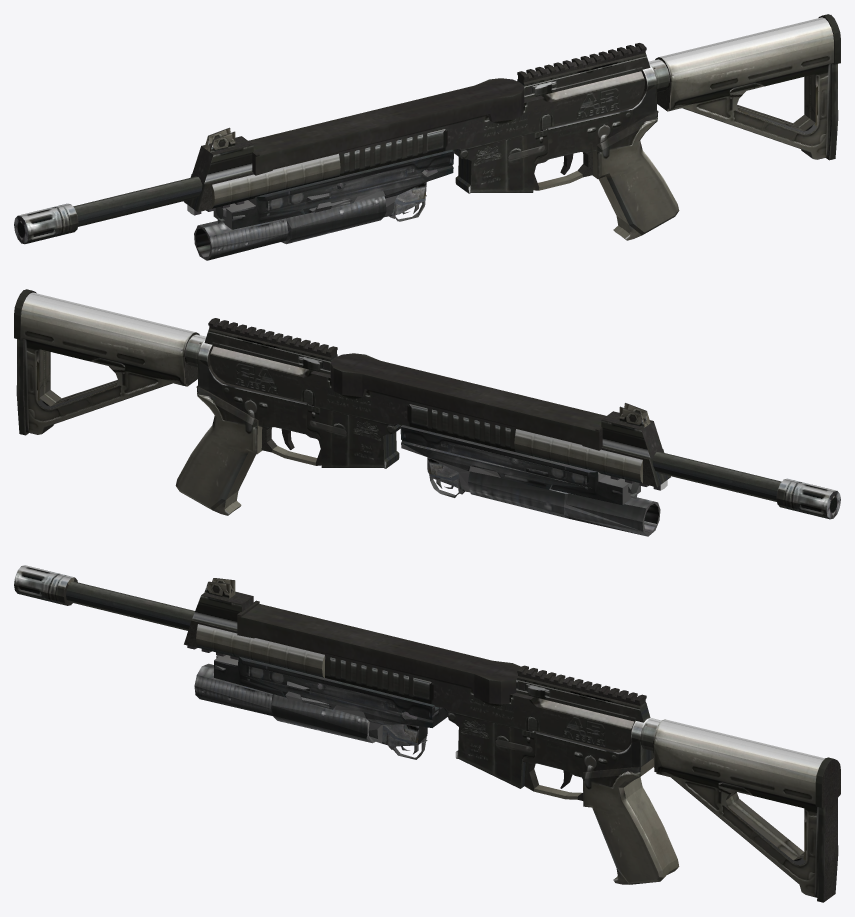
3 views of the same model, one above another, from view 1: azimuth 30°, elevation 25°; view 2: azimuth 150°, elevation 25°; view 3: azimuth 330°, elevation 25° (orthographic).
Visible parts, largest first — view 1: Cube_Cube.001, W_Gl5040; view 2: Cube_Cube.001, W_Gl5040; view 3: Cube_Cube.001, W_Gl5040.
Part boxes in pixels (x1,y1,x2,y2): Cube_Cube.001: (14,14,840,244); W_Gl5040: (194,149,454,260); Cube_Cube.001: (14,289,840,519); W_Gl5040: (400,425,660,536); Cube_Cube.001: (14,565,840,902); W_Gl5040: (194,655,448,759).
Size of the model in its own units: 13.44 by 3.19 by 0.8103.
